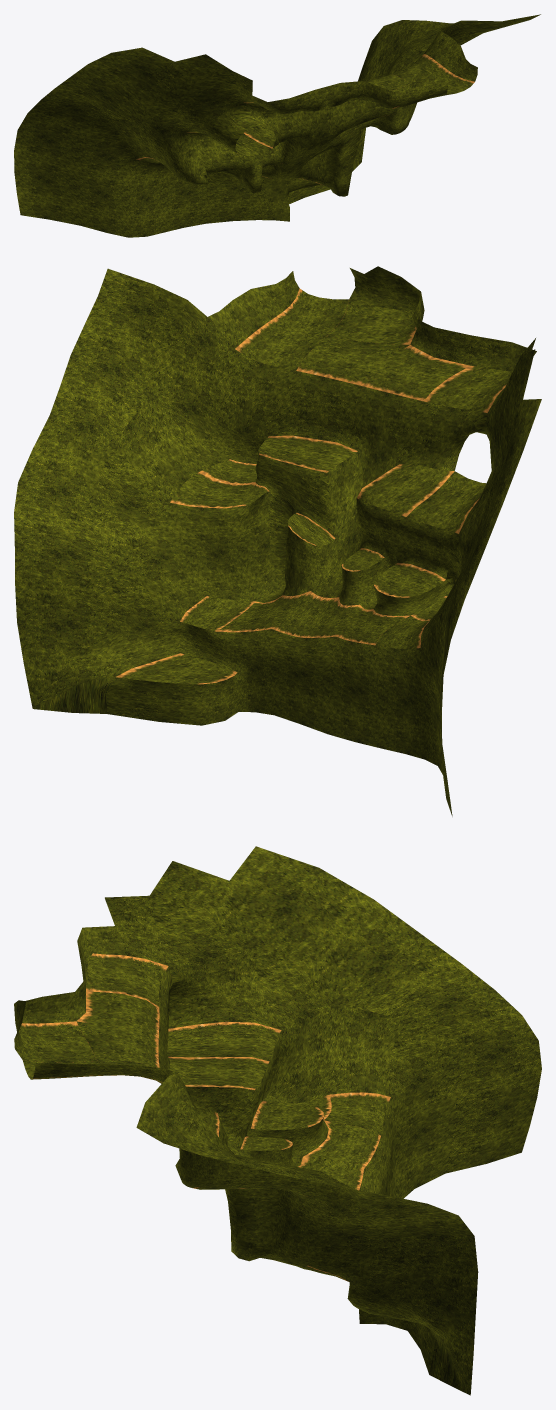
The model's file is TROLLHOLE02_PS-FRONT08.fbx.
3 views of the same model, one above another, from view 1: azimuth 30°, elevation 25°; view 2: azimuth 150°, elevation 25°; view 3: azimuth 270°, elevation 25° (orthographic). The views are drawn at different scales.
Parts seen in each view (by area): view 1: TROLLHOLE02_PS-FRONT08; view 2: TROLLHOLE02_PS-FRONT08; view 3: TROLLHOLE02_PS-FRONT08.
Boxes of the visible parts, bbox=[...] form: TROLLHOLE02_PS-FRONT08: bbox=[14, 14, 540, 237]; TROLLHOLE02_PS-FRONT08: bbox=[14, 266, 541, 816]; TROLLHOLE02_PS-FRONT08: bbox=[14, 846, 541, 1395].
Bounding box in the file's own units: 366597 × 229313 × 304422.
Materials: 7 (7 with a texture image).
